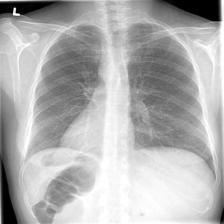normal: (22, 16, 220, 178)
